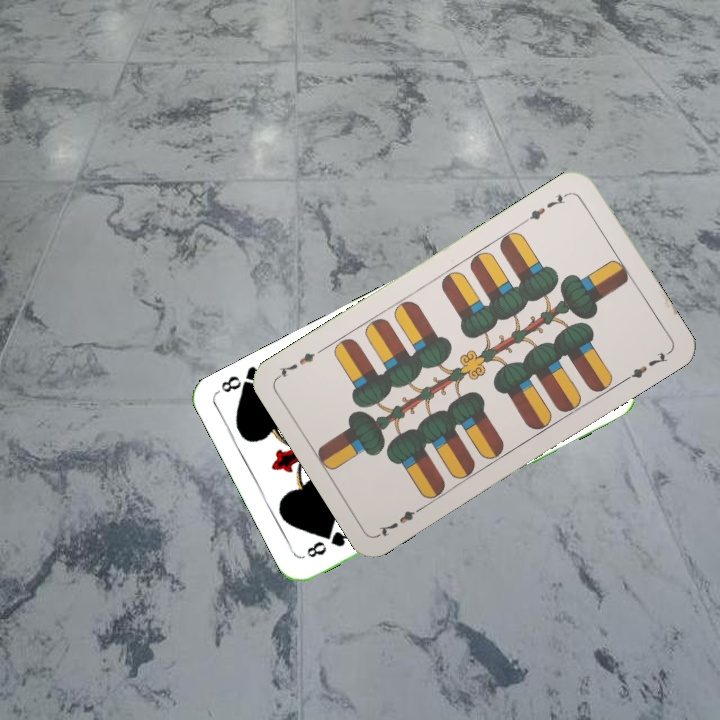E7: (520, 188, 573, 226), (374, 501, 427, 539)
G8: (302, 526, 355, 561)
